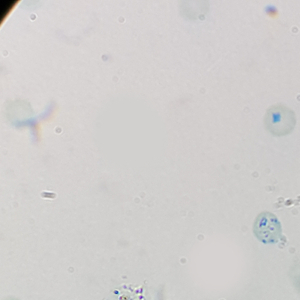aggregate reticulocyte: (252, 210, 284, 246)
erythrocyte: (262, 102, 298, 138), (3, 98, 35, 128)
